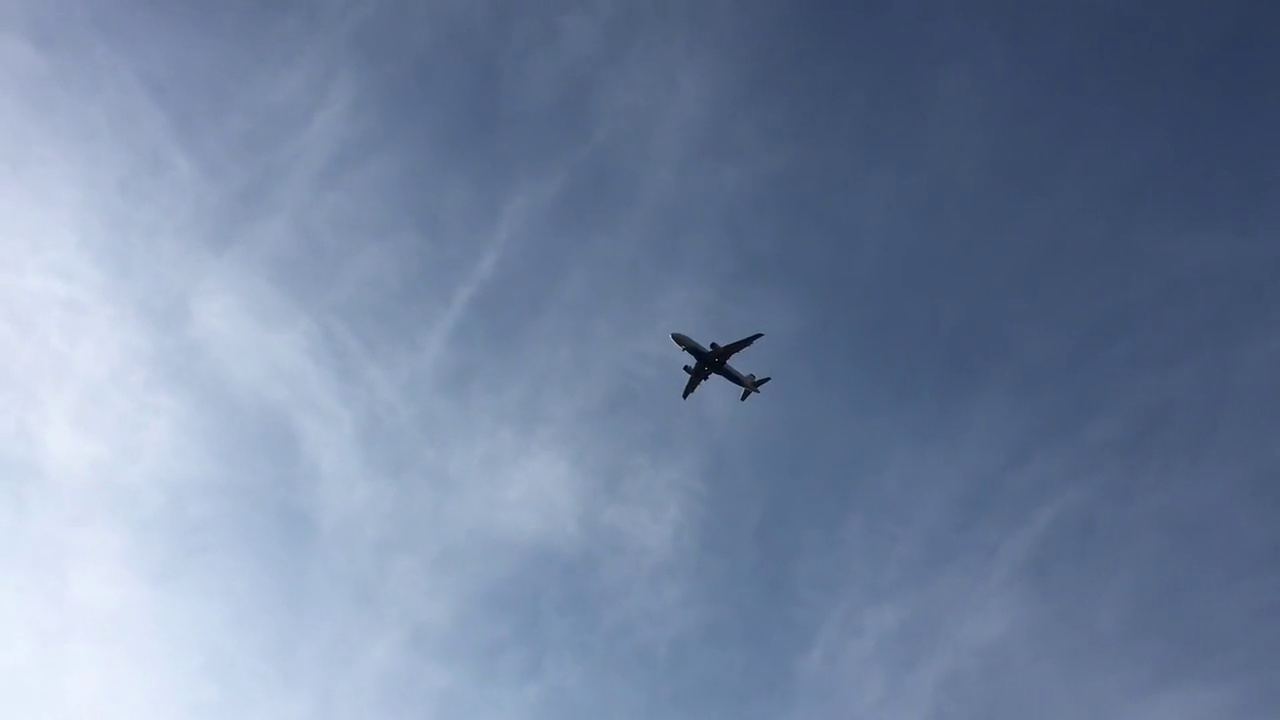plane: (668, 327, 770, 401)
